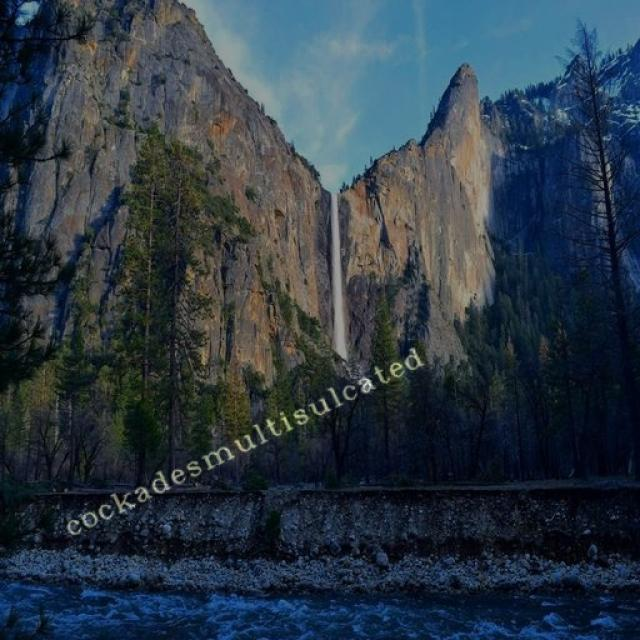watermark: (61, 340, 426, 541)
